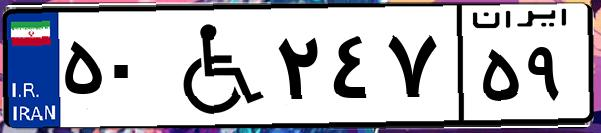0: (110, 28, 158, 98)
2: (270, 28, 330, 110)
4: (330, 28, 385, 110)
5: (57, 26, 110, 100), (475, 38, 525, 113)
7: (385, 28, 445, 110)
9: (525, 38, 570, 115)
ژ (معلولین و جانبازان): (158, 12, 270, 120)
